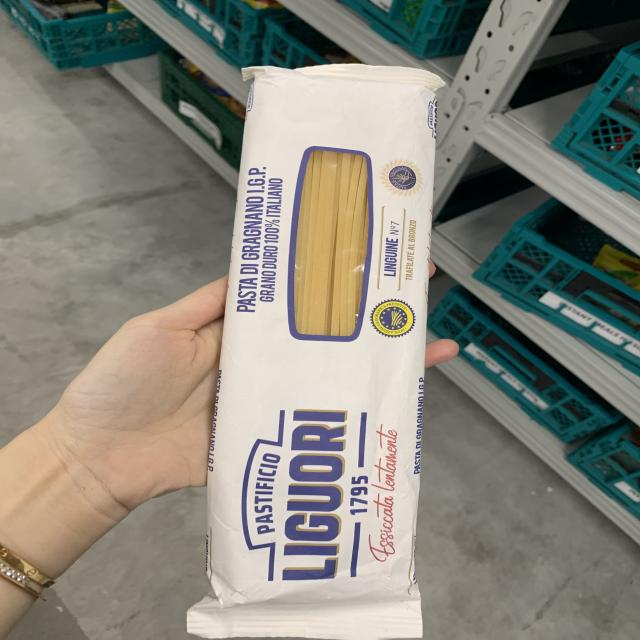object_name: (240, 68, 423, 637)
